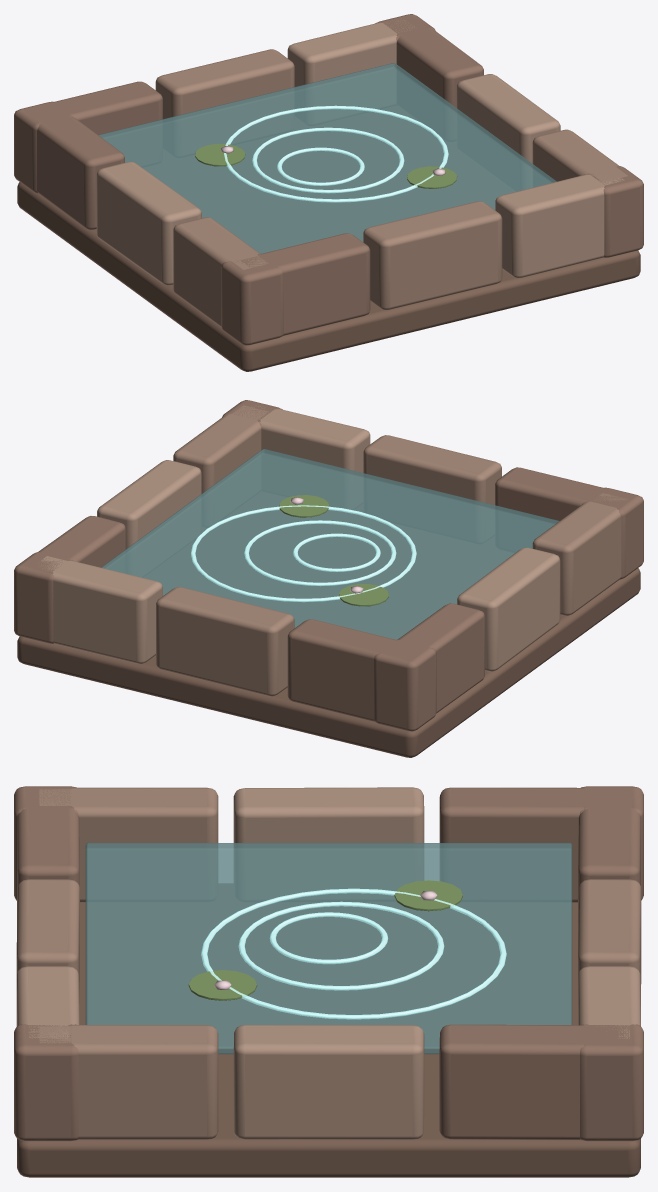
File: water_basin.glb
3 views of the same model, one above another, from view 1: azimuth 30°, elevation 25°; view 2: azimuth 150°, elevation 25°; view 3: azimuth 270°, elevation 25° (orthographic). The views are drawn at different scales.
Parts seen in each view (by area): view 1: water_basin; view 2: water_basin; view 3: water_basin.
Boxes of the visible parts, box(x1,y1,x2,y2) form: water_basin: box(14, 14, 643, 371); water_basin: box(14, 400, 643, 757); water_basin: box(14, 786, 643, 1177).
Bounding box in the file's own units: 1 × 0.2333 × 1.
